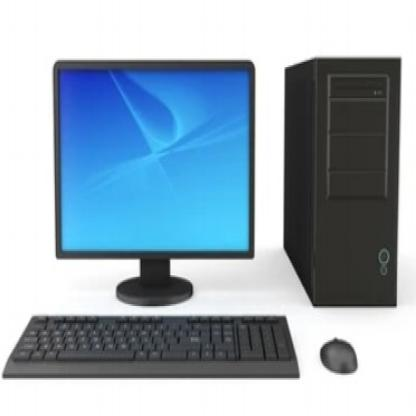DESKTOP: (19, 33, 416, 414)
